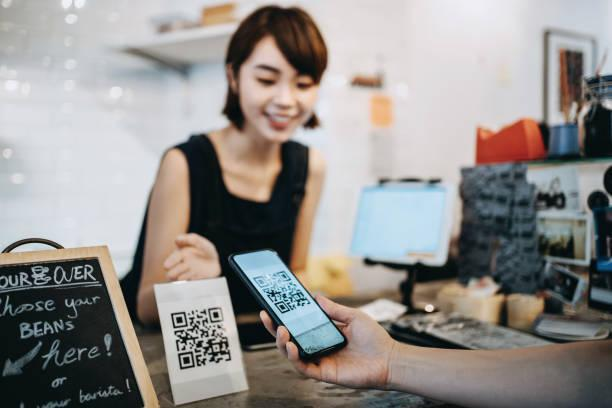Finder pattern: (175, 350, 196, 373), (169, 310, 190, 331), (206, 304, 226, 325), (274, 298, 291, 316), (276, 268, 292, 284), (253, 275, 270, 288)
